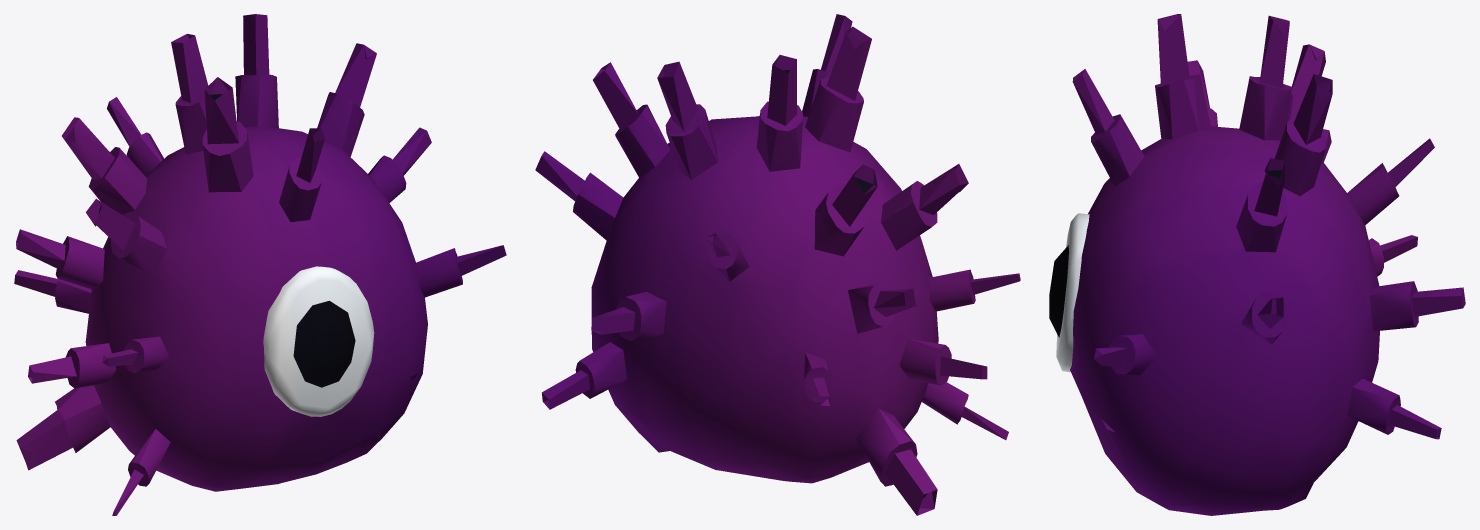
The model's file is Bacteria3.glb.
The picture shows the model from 3 angles, left to right: view 1: azimuth 30°, elevation 25°; view 2: azimuth 150°, elevation 25°; view 3: azimuth 270°, elevation 25°; orthographic projection. The views are drawn at different scales.
Visible parts, largest first — view 1: Bacteria3, Olho; view 2: Bacteria3; view 3: Bacteria3, Olho.
Boxes of the visible parts, x1=… form: Bacteria3: x1=14, y1=14, x2=506, y2=515; Olho: x1=263, y1=266, x2=374, y2=416; Bacteria3: x1=535, y1=14, x2=1020, y2=515; Bacteria3: x1=1070, y1=14, x2=1465, y2=515; Olho: x1=1049, y1=213, x2=1089, y2=372.
Size of the model in its own units: 2.01 by 1.96 by 1.65.
1 material, 1 textured.
